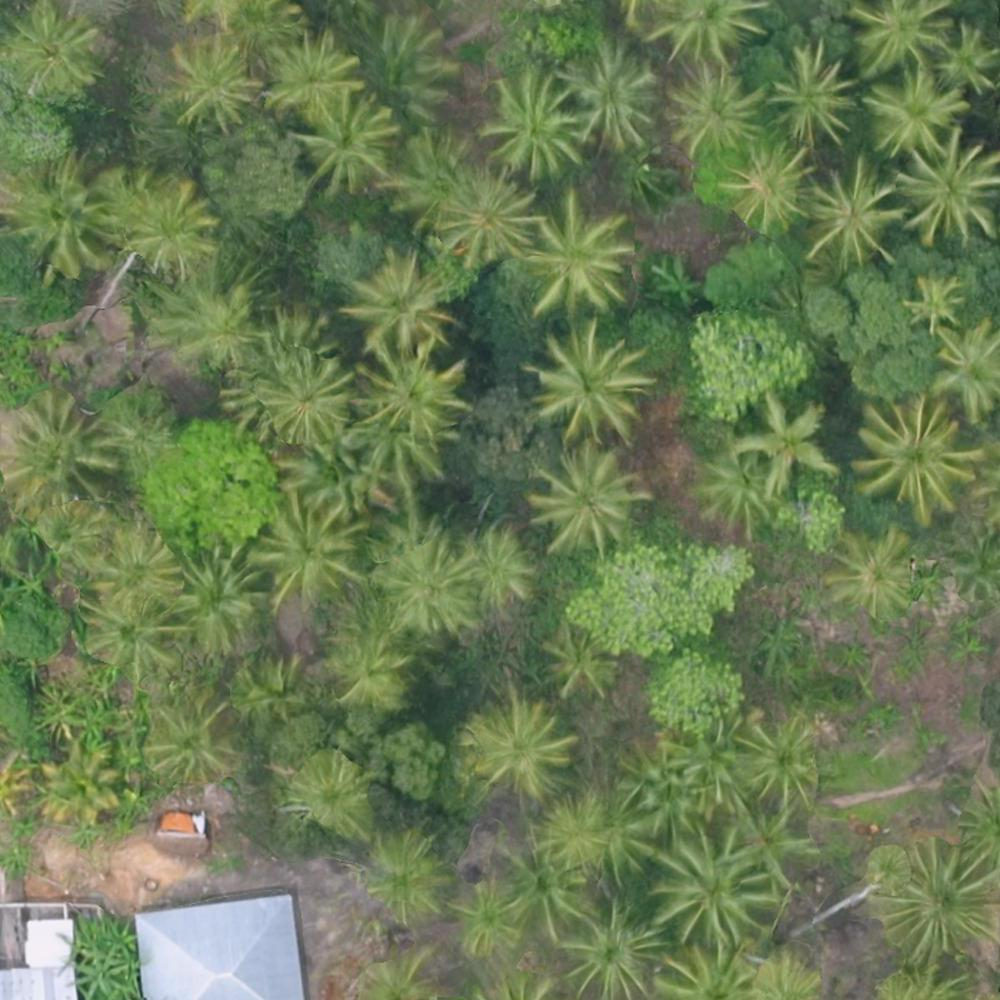Palm: (858, 396, 979, 519), (2, 390, 113, 517), (532, 324, 646, 444), (876, 840, 993, 956), (655, 833, 778, 941), (529, 189, 634, 309), (528, 447, 642, 549), (900, 135, 997, 252), (349, 347, 465, 441), (253, 493, 361, 593), (348, 251, 451, 355), (557, 35, 654, 145), (484, 75, 586, 179), (8, 163, 101, 277), (804, 165, 905, 265), (471, 696, 572, 792), (360, 15, 455, 116), (771, 40, 864, 143), (114, 179, 217, 271), (830, 521, 926, 616), (392, 127, 482, 228), (436, 171, 531, 266), (499, 839, 596, 932), (866, 67, 965, 158), (159, 272, 260, 361), (563, 910, 663, 999), (76, 589, 179, 675), (667, 61, 764, 152), (689, 443, 781, 538), (263, 35, 363, 118), (164, 550, 252, 644), (255, 350, 347, 439), (145, 698, 233, 790), (304, 96, 395, 183), (850, 1, 952, 77), (386, 539, 472, 629), (724, 141, 810, 230), (732, 721, 814, 813), (8, 10, 97, 94), (924, 318, 1000, 415), (165, 41, 249, 125), (88, 529, 180, 605), (364, 835, 446, 914), (36, 747, 116, 826), (458, 526, 536, 606), (297, 752, 371, 829), (540, 800, 612, 874), (542, 628, 618, 696), (449, 878, 521, 949), (900, 266, 975, 333), (935, 22, 995, 94)
